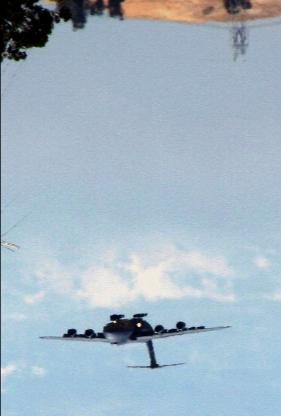C17: (39, 314, 233, 370)
